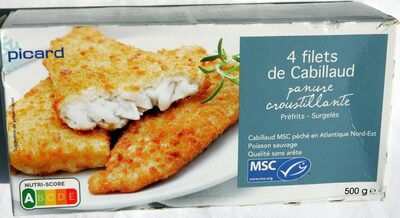4 filets de cabillaud panure croustillante: (20, 11, 380, 207)
